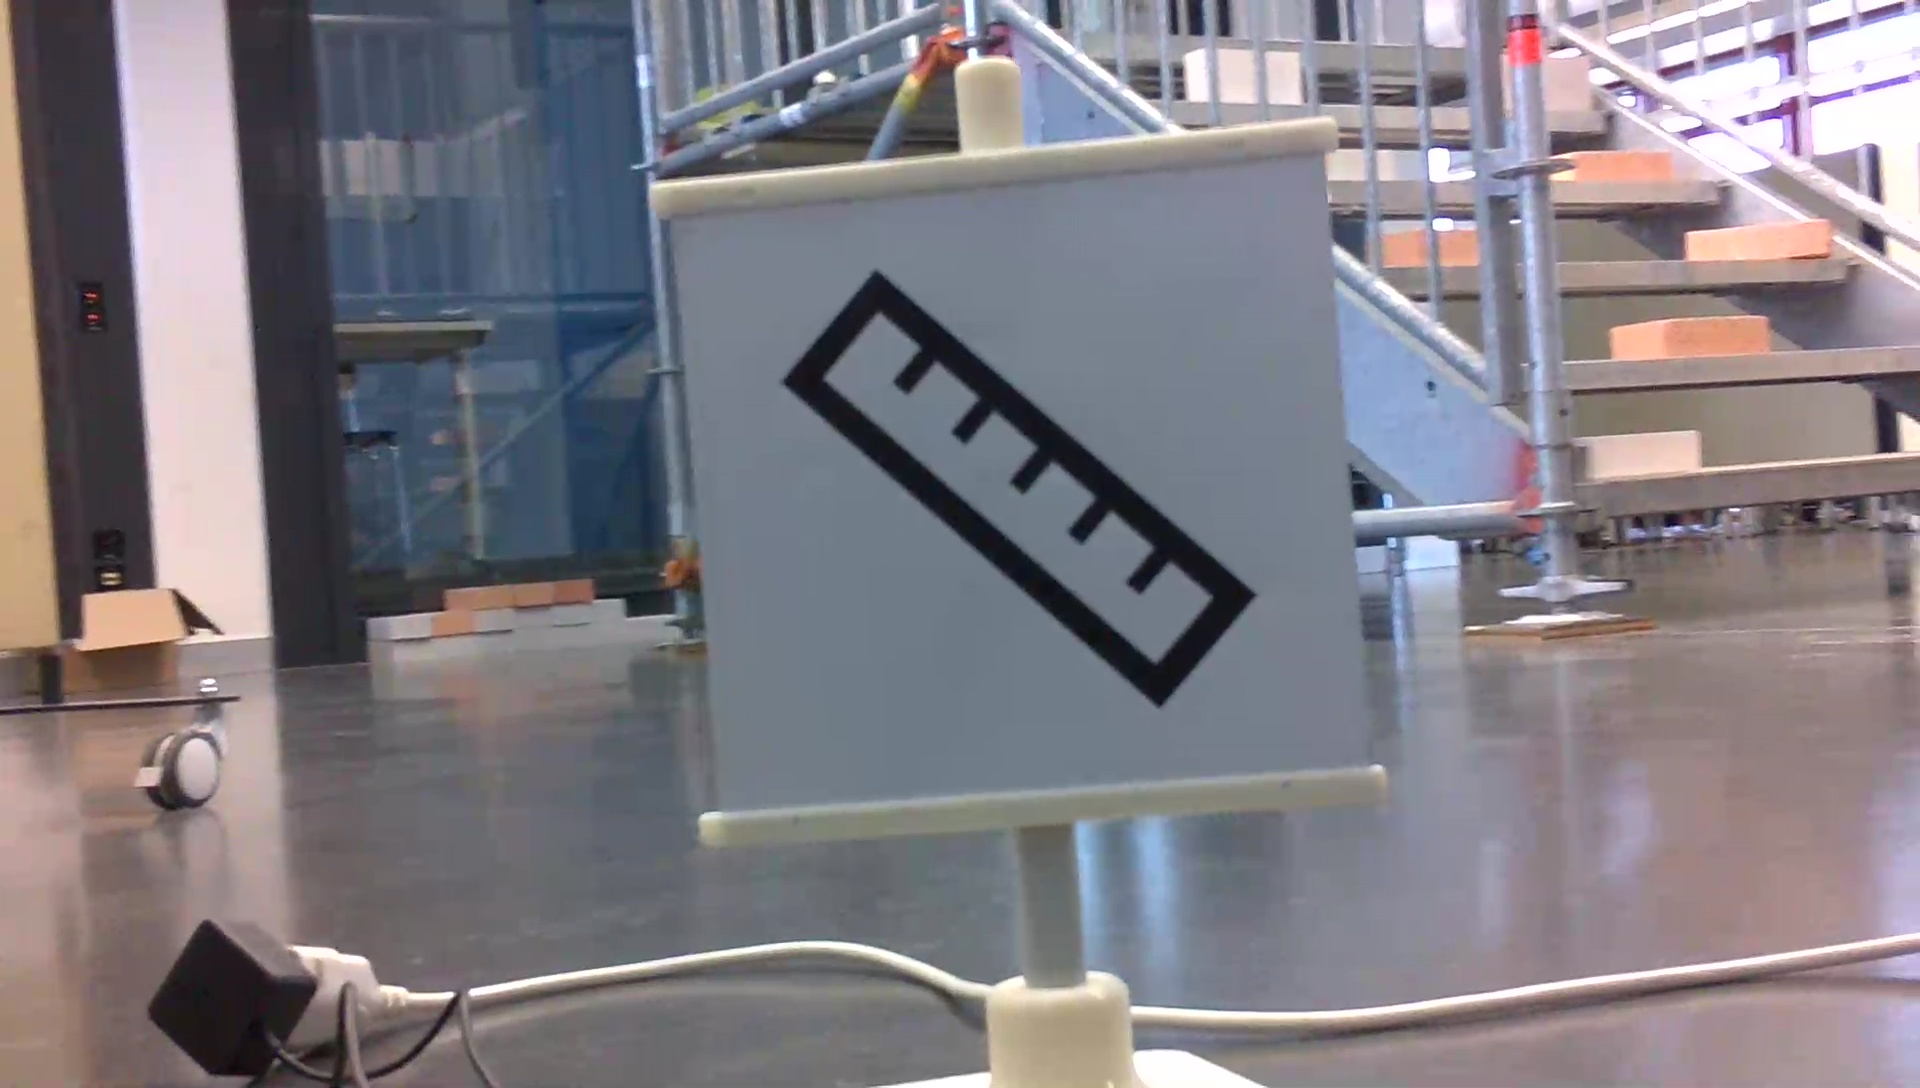brick: (1555, 419, 1705, 477), (1605, 309, 1770, 357), (1356, 215, 1485, 273), (1484, 44, 1606, 103), (1530, 128, 1652, 186), (1178, 42, 1298, 94), (1683, 212, 1820, 256)
edge: (1567, 446, 1920, 516), (1538, 349, 1920, 393), (1419, 260, 1861, 284), (1323, 175, 1710, 199)
ruler: (775, 251, 1255, 704)
